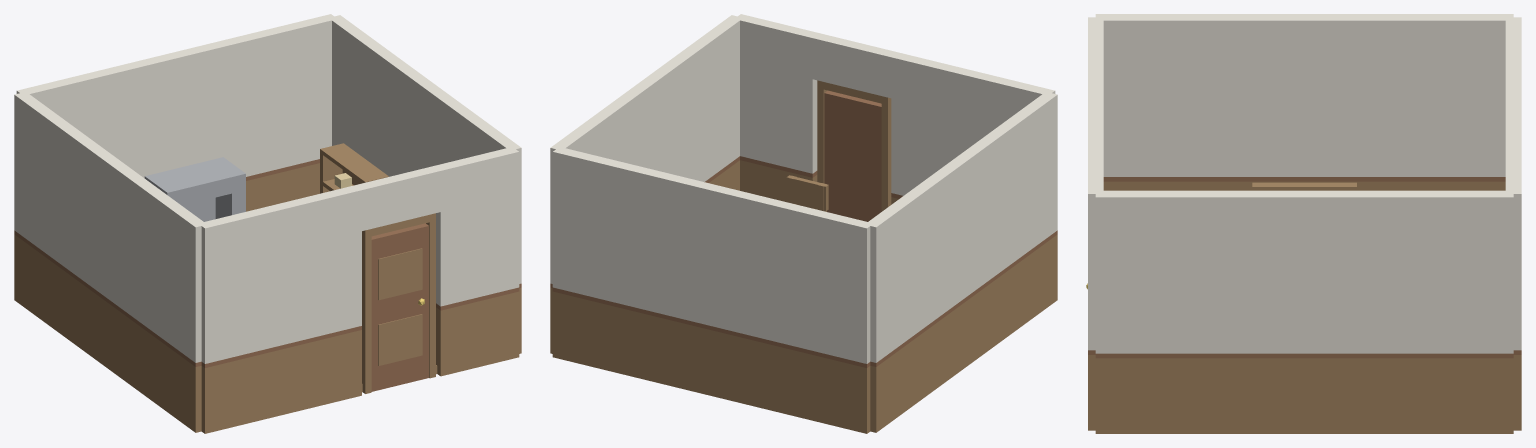
Rendered from house_interior.glb.
3 views of the same model, side by side, from view 1: azimuth 30°, elevation 25°; view 2: azimuth 150°, elevation 25°; view 3: azimuth 270°, elevation 25° (orthographic). The views are drawn at different scales.
Visible parts, largest first — view 1: plaster.002, plaster.013, plaster.006, plaster.012, plaster.009, plaster.005, plaster.004, plaster.011, plaster.008, plaster.015, wainscot.013, wainscot.002 (+23 smaller); view 2: plaster.001, plaster.012, plaster.009, plaster.005, plaster.013, plaster.006, plaster.015, leaf.001, plaster.008, plaster.011, plaster.004, plaster.003 (+19 smaller); view 3: plaster.010, plaster.003, plaster.011, plaster.007, plaster.014, plaster.008, plaster.004, plaster.015, wainscot.003, wainscot.010, wainscot.007, wainscot.014 (+23 smaller).
Part boxes in pixels (bbox=[...]): plaster.002: bbox=[198, 204, 283, 363]; plaster.013: bbox=[434, 148, 519, 306]; plaster.006: bbox=[277, 185, 361, 344]; plaster.012: bbox=[252, 14, 337, 173]; plaster.009: bbox=[174, 33, 259, 176]; plaster.005: bbox=[95, 52, 180, 178]; plaster.004: bbox=[150, 191, 203, 362]; plaster.011: bbox=[59, 125, 116, 296]; plaster.008: bbox=[105, 158, 161, 329]; plaster.015: bbox=[14, 92, 70, 262]; wainscot.013: bbox=[436, 291, 519, 376]; wainscot.002: bbox=[201, 349, 283, 433]; plaster.001: bbox=[788, 204, 873, 363]; plaster.012: bbox=[552, 148, 637, 306]; plaster.009: bbox=[631, 166, 716, 325]; plaster.005: bbox=[710, 185, 794, 344]; plaster.013: bbox=[735, 14, 819, 173]; plaster.006: bbox=[891, 52, 976, 195]; plaster.015: bbox=[868, 191, 921, 362]; leaf.001: bbox=[824, 90, 881, 221]; plaster.008: bbox=[955, 125, 1012, 296]; plaster.011: bbox=[910, 158, 966, 329]; plaster.004: bbox=[1001, 92, 1057, 262]; plaster.003: bbox=[686, 15, 742, 181]; plaster.010: bbox=[1304, 190, 1409, 353]; plaster.003: bbox=[1095, 190, 1200, 353]; plaster.011: bbox=[1304, 14, 1409, 176]; plaster.007: bbox=[1200, 190, 1304, 353]; plaster.014: bbox=[1409, 190, 1513, 353]; plaster.008: bbox=[1200, 14, 1304, 176]; plaster.004: bbox=[1095, 14, 1200, 176]; plaster.015: bbox=[1409, 14, 1513, 176]; wainscot.003: bbox=[1095, 358, 1200, 433]; wainscot.010: bbox=[1304, 358, 1409, 433]; wainscot.007: bbox=[1200, 358, 1304, 433]; wainscot.014: bbox=[1409, 358, 1513, 433].
Size of the model in its own units: 4.15 by 2.5 by 4.16.
